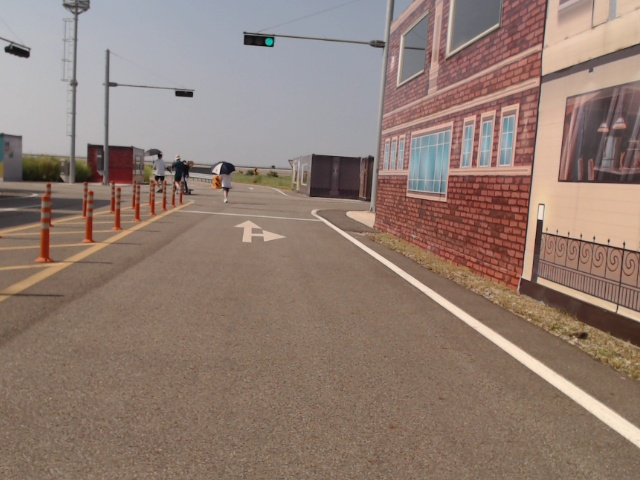green_3: (244, 34, 275, 48)
